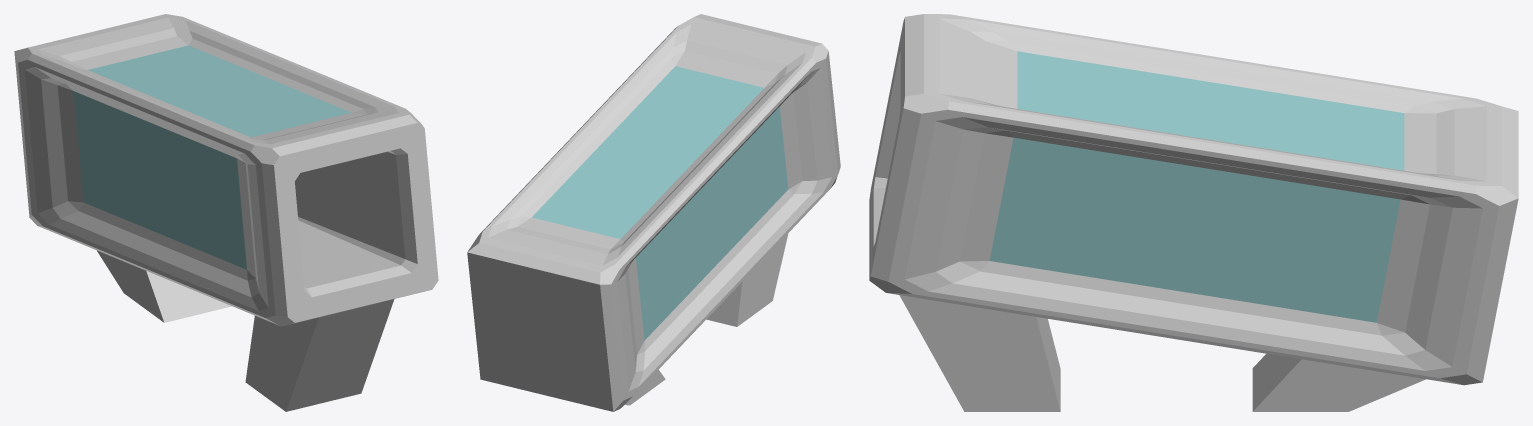
Rendered from missile.fbx.
The picture shows the model from 3 angles, left to right: view 1: azimuth 30°, elevation 25°; view 2: azimuth 150°, elevation 25°; view 3: azimuth 270°, elevation 25°; orthographic projection. The views are drawn at different scales.
Parts seen in each view (by area): view 1: Cube; view 2: Cube; view 3: Cube.
Part boxes in pixels (left/top/right/bottom): Cube: left=14, top=14, right=438, bottom=411; Cube: left=467, top=14, right=840, bottom=411; Cube: left=869, top=14, right=1518, bottom=411.
Bounding box in the file's own units: 0.7031 × 1.19 × 2.08.
